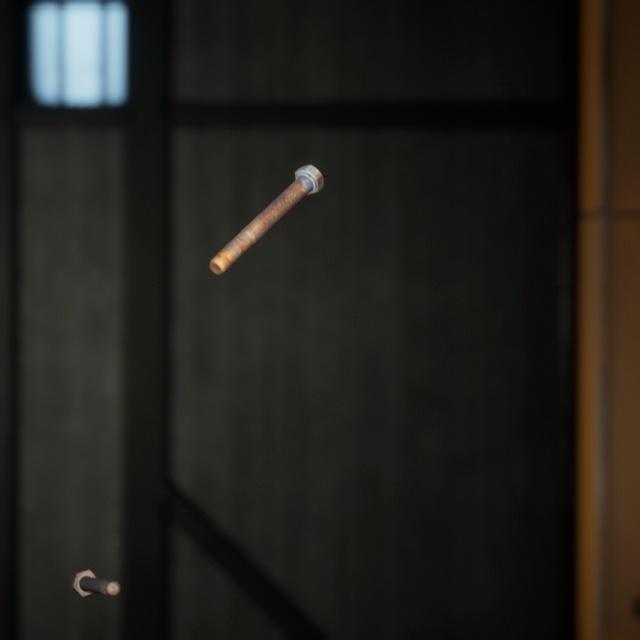bolt: (205, 144, 328, 262), (66, 542, 125, 579)
